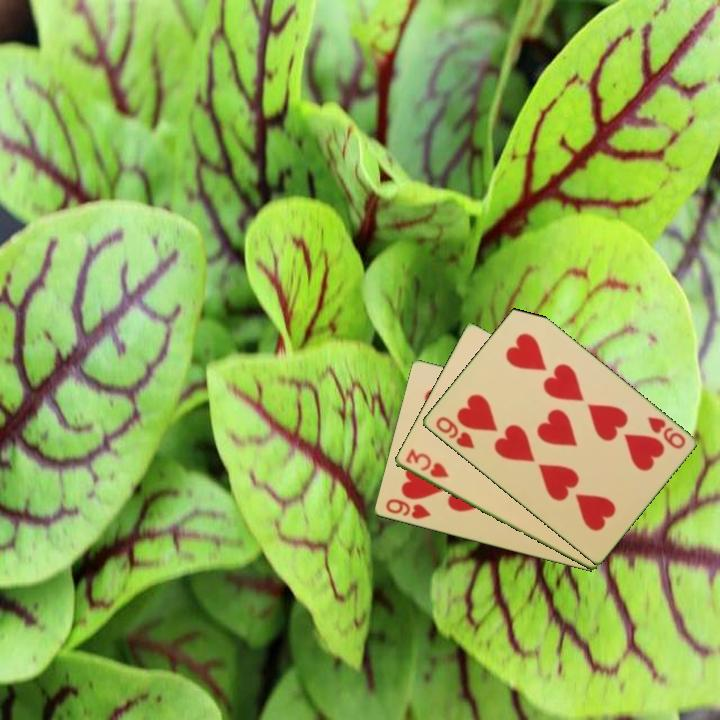3h: (401, 446, 451, 481)
9h: (432, 413, 477, 452), (644, 413, 688, 452), (382, 495, 433, 522)
